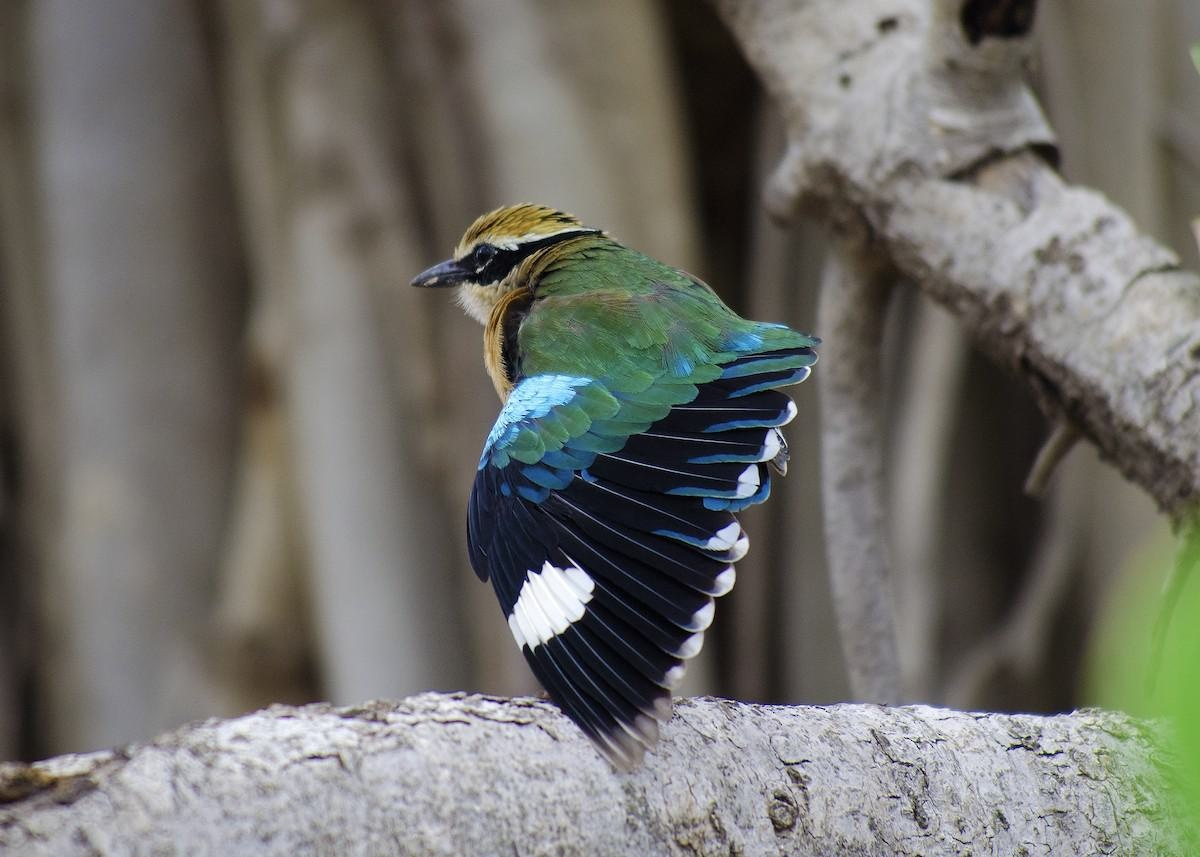pitta: (409, 196, 766, 738)
